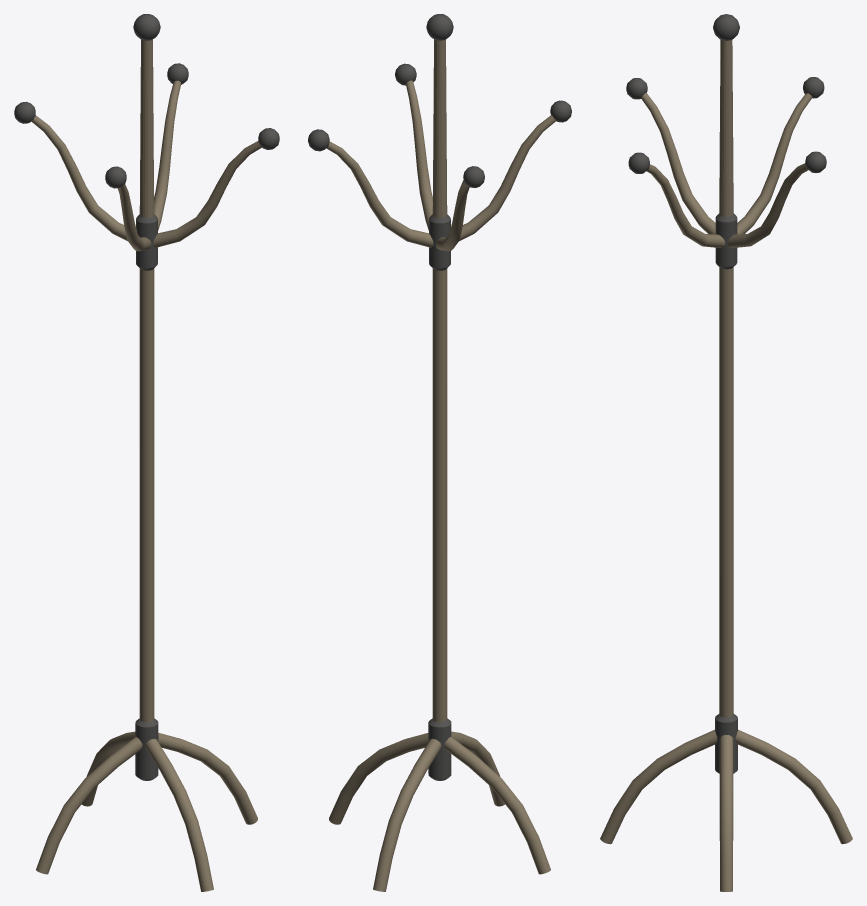
File: hanger.fbx
3 renders of one model, left to right at view 1: azimuth 30°, elevation 25°; view 2: azimuth 150°, elevation 25°; view 3: azimuth 270°, elevation 25°, orthographic.
Parts seen in each view (by area): view 1: hanger; view 2: hanger; view 3: hanger.
Boxes of the visible parts, bbox=[...] form: hanger: bbox=[14, 14, 279, 891]; hanger: bbox=[308, 14, 571, 891]; hanger: bbox=[600, 14, 852, 891].
Bounding box in the file's own units: 54.34 × 196 × 54.34.
